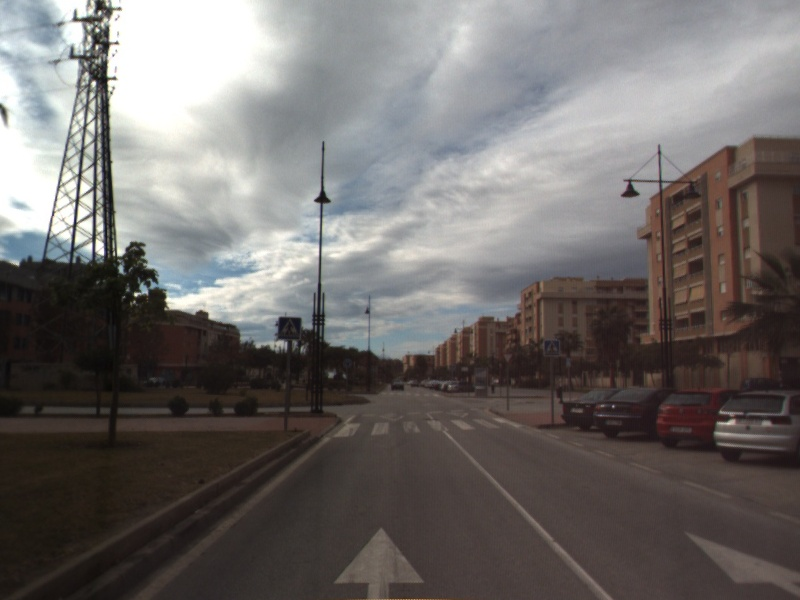STRAIGHT: (683, 530, 800, 599), (331, 525, 426, 600)
